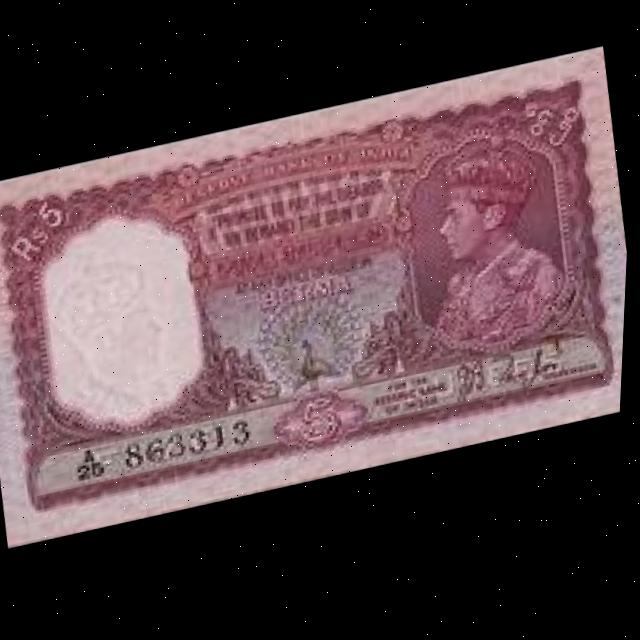banknote: (0, 50, 637, 551)
